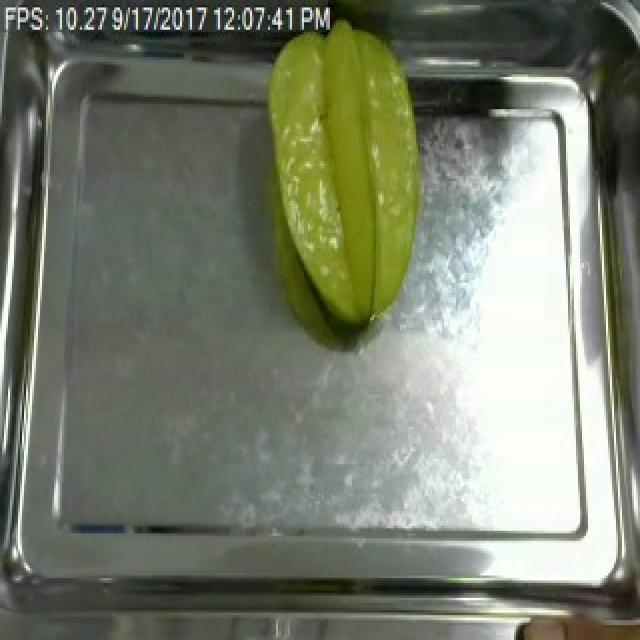fruit: (254, 12, 434, 342)
